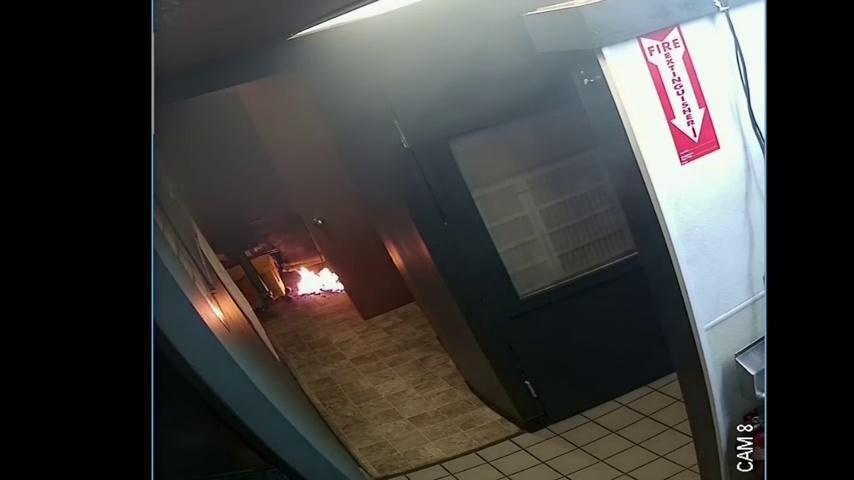fire: (271, 248, 375, 316)
